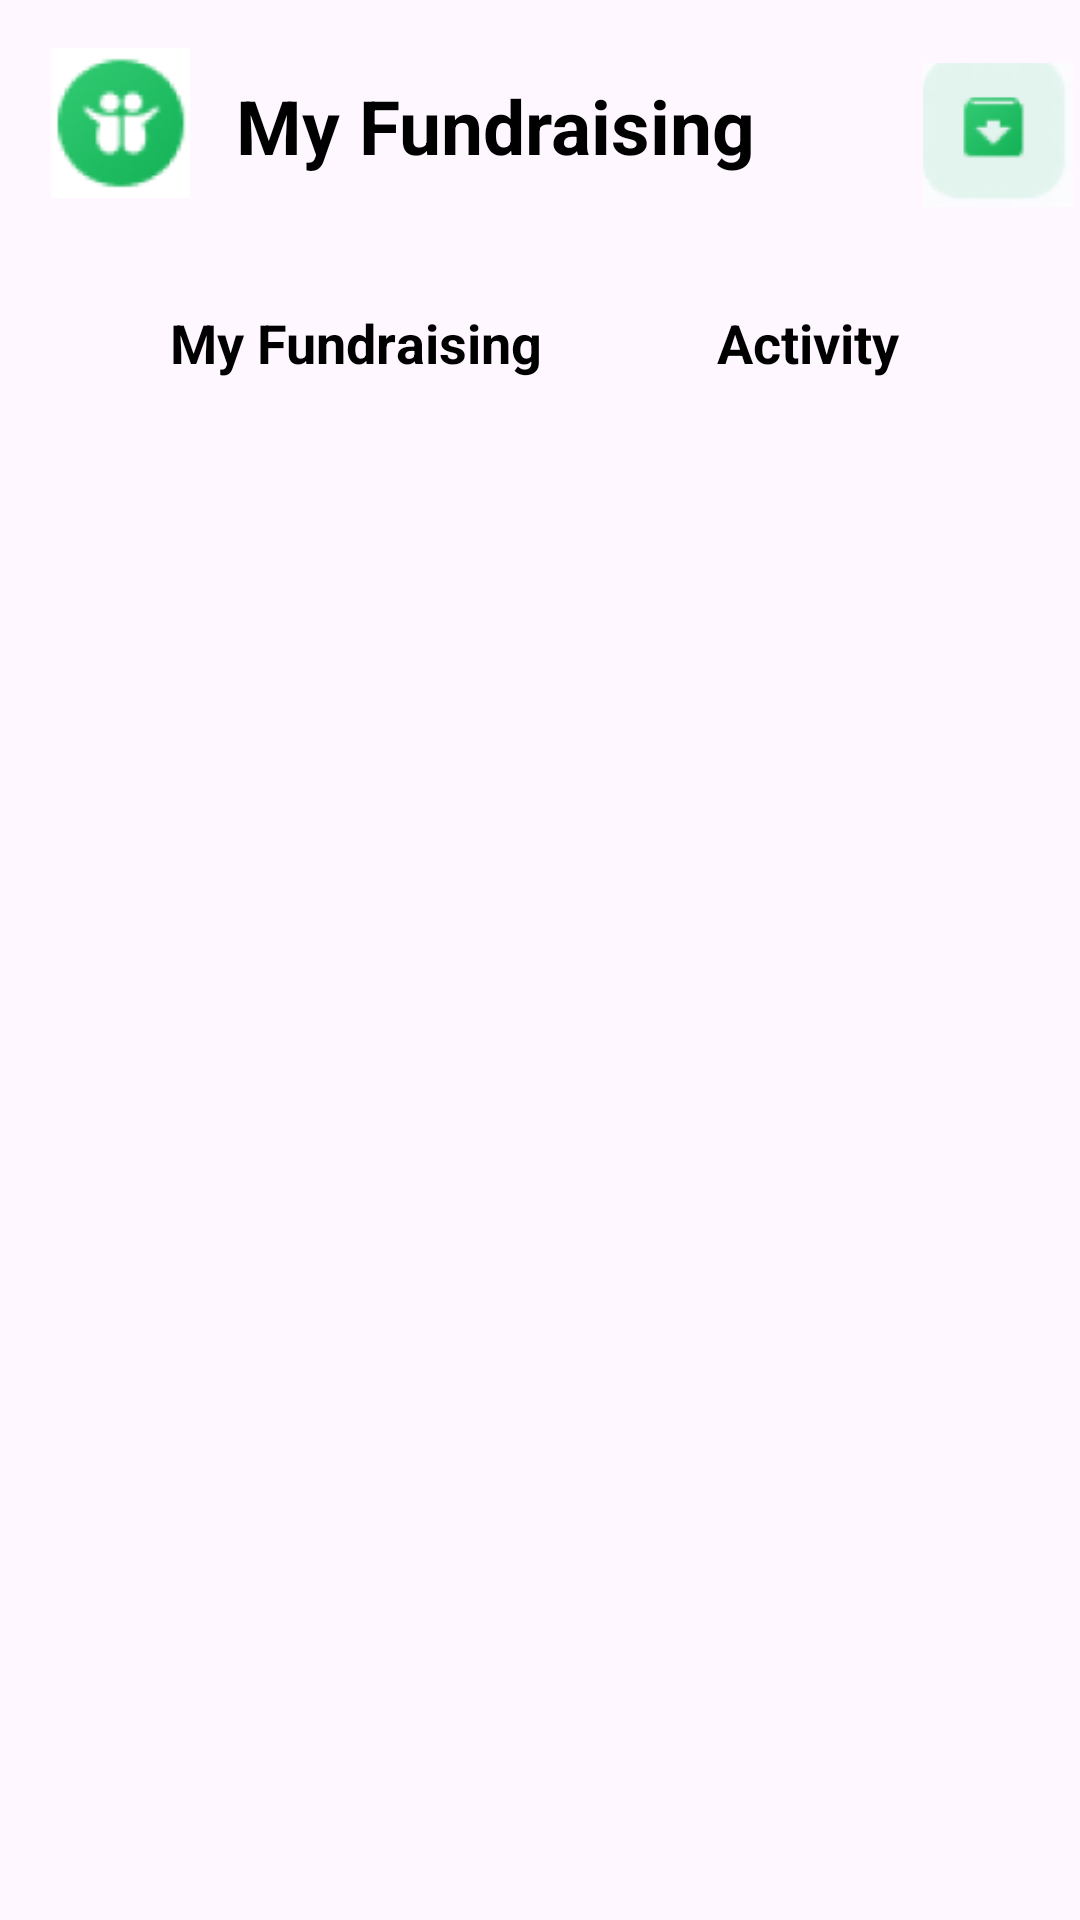

Where to tap for icons on this 1080px×1920px app screen, as (x,y):
donation: (121,123)
